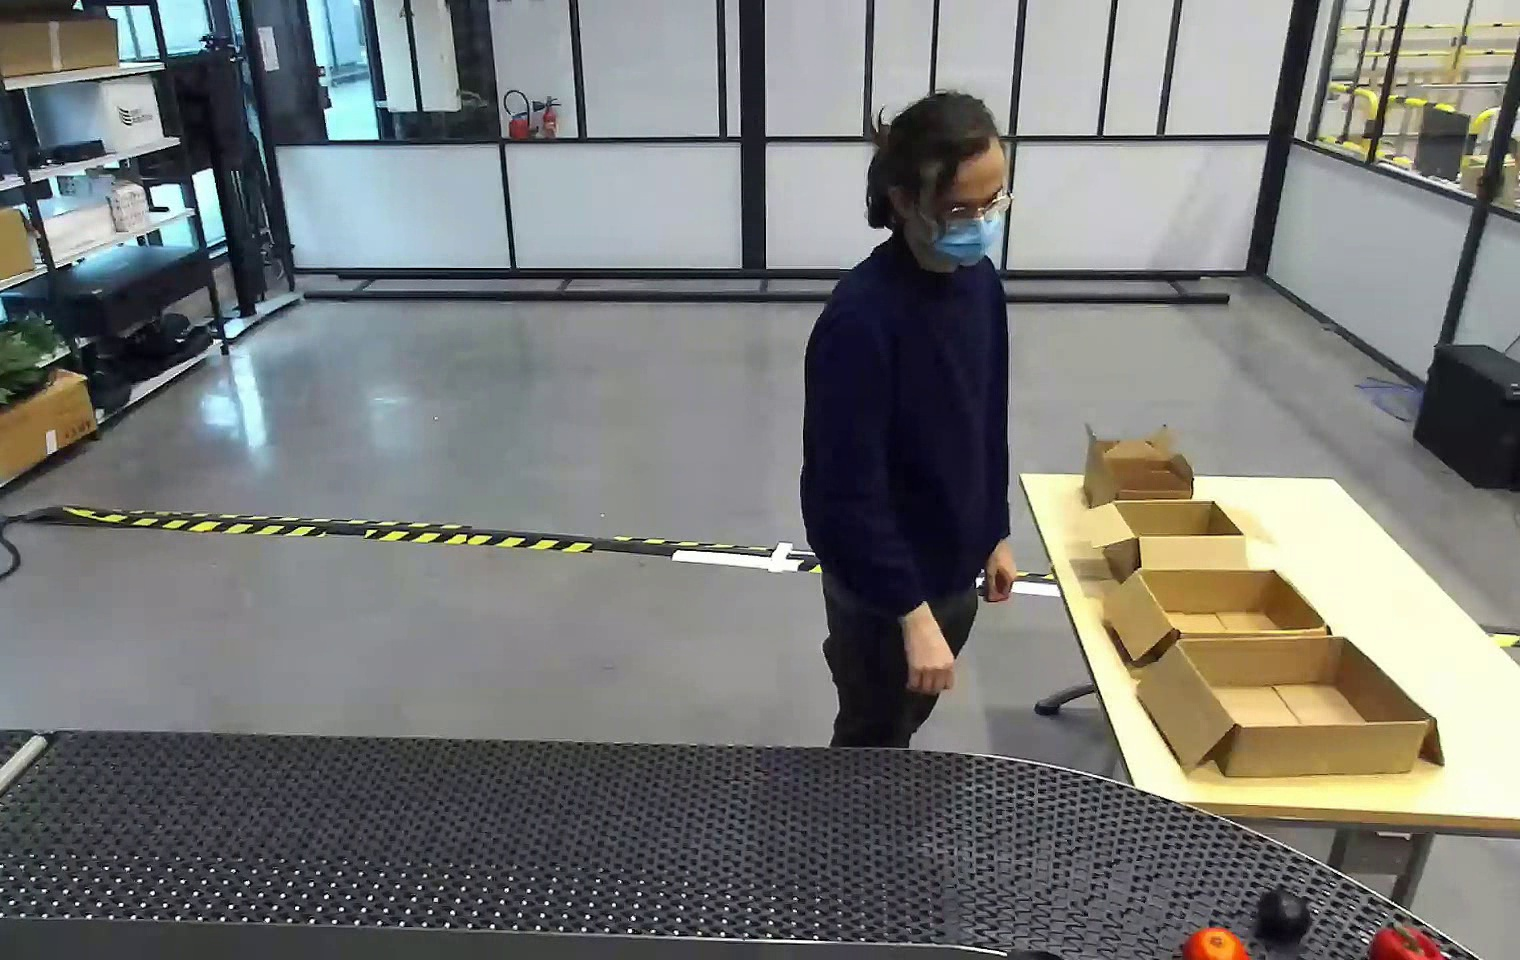Main droite: (864, 522, 950, 592)
